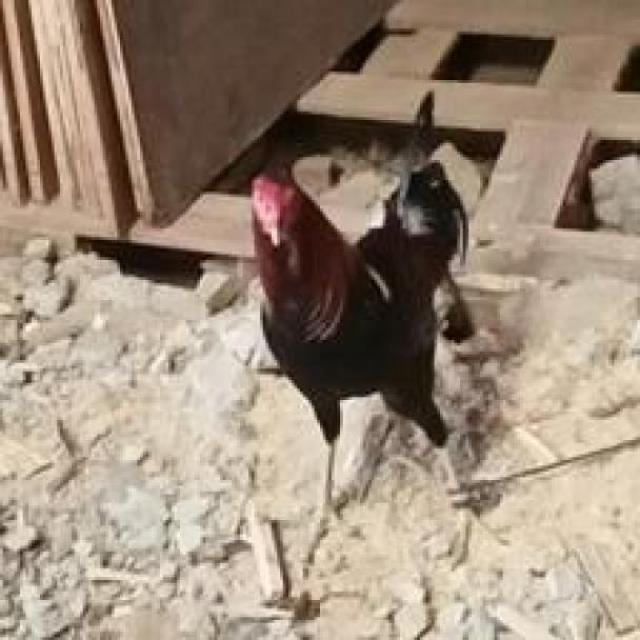Chicken: (207, 92, 555, 575)
